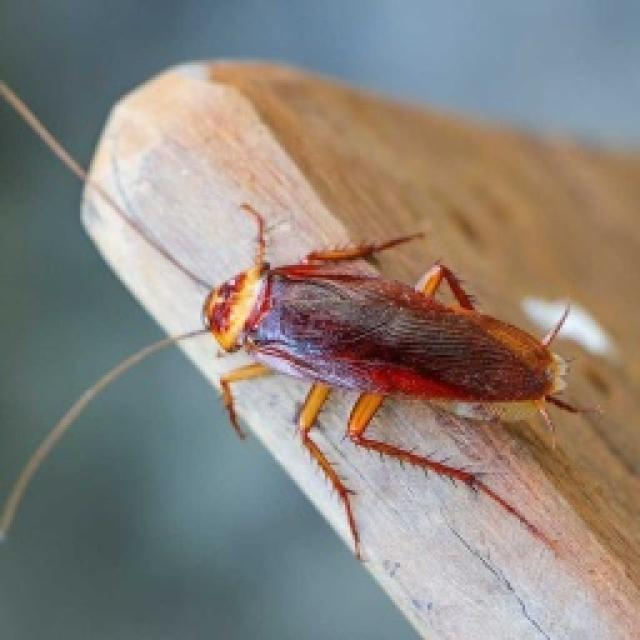cockroach: (201, 233, 600, 515)
